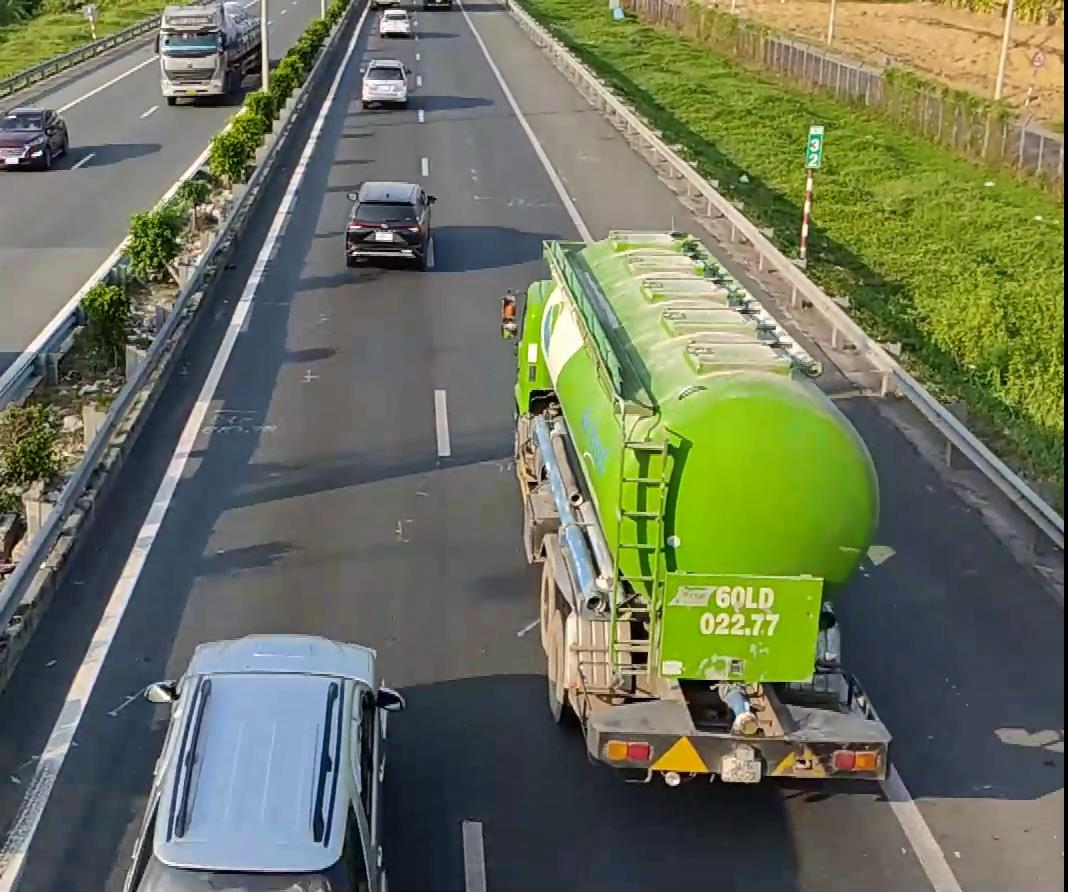car: (134, 684, 403, 885), (176, 633, 397, 675), (343, 180, 435, 269), (0, 105, 68, 170)
container: (508, 228, 896, 781), (155, 0, 264, 104)
